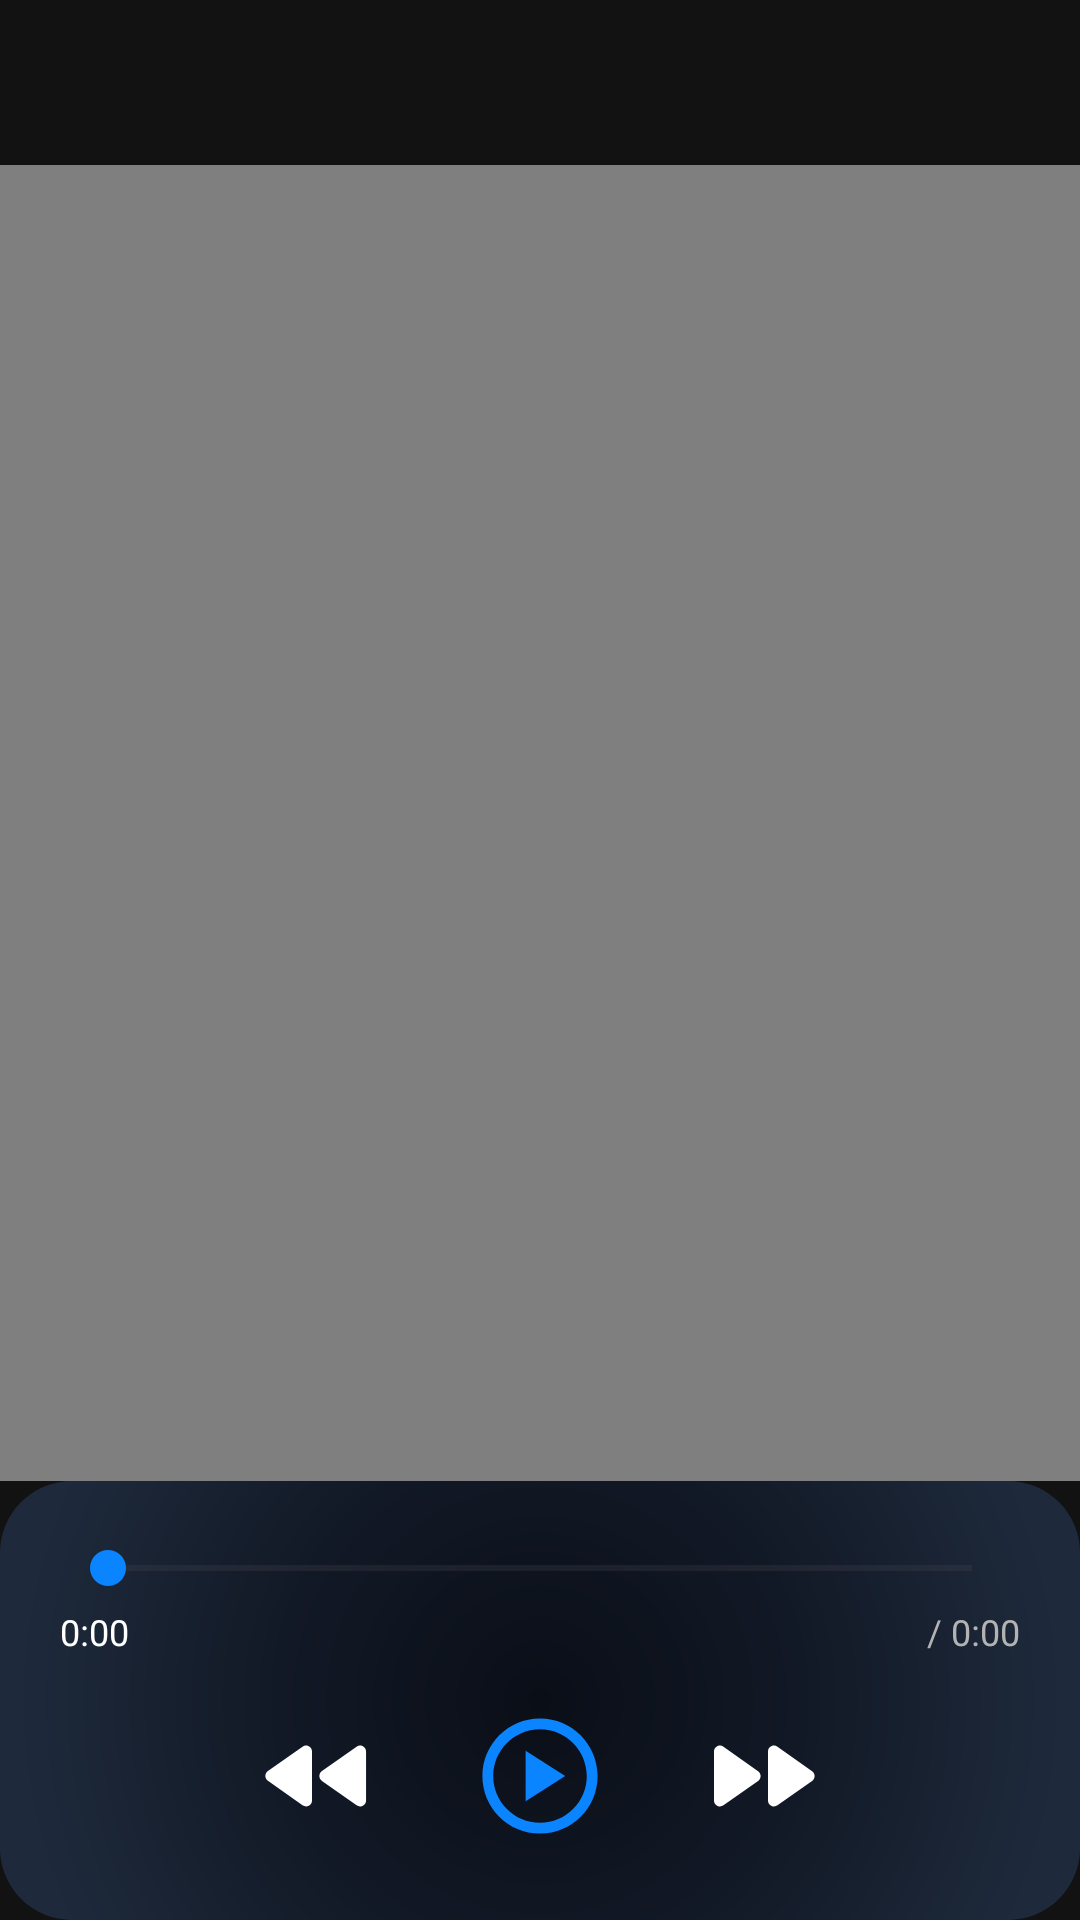

Screen size 1080x1920. Icon name, then its center in pixels as point (x, y):
fast forward: point (764, 1776)
play circle: point (540, 1776)
rewind: point (315, 1776)
